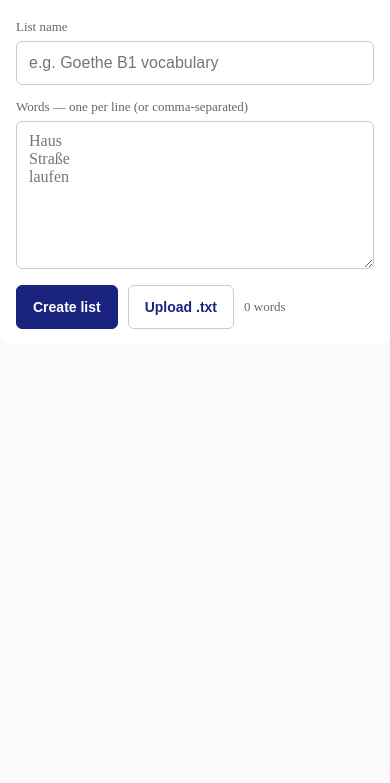
Scenario: WordListsPage › renders all five counts and shows unresolved + ambiguous surfaces
Type "Haus" into the text box with test id "word-list-input".
click(195, 195); type("Haus")  # box [16,121,374,269]
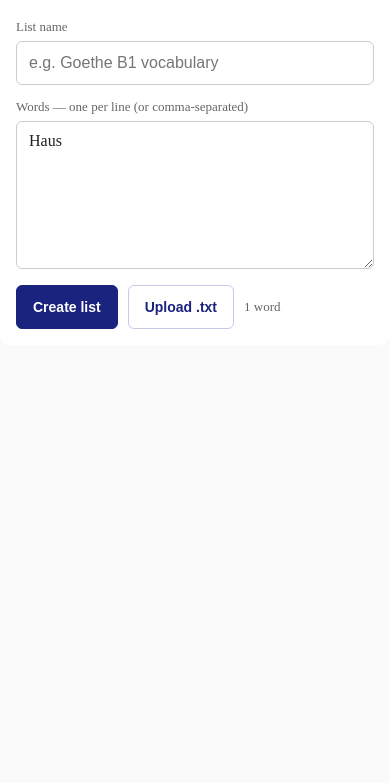
Click the button with test id "word-list-create".
click(67, 307)  # box [16,285,118,329]
(page scrolled)
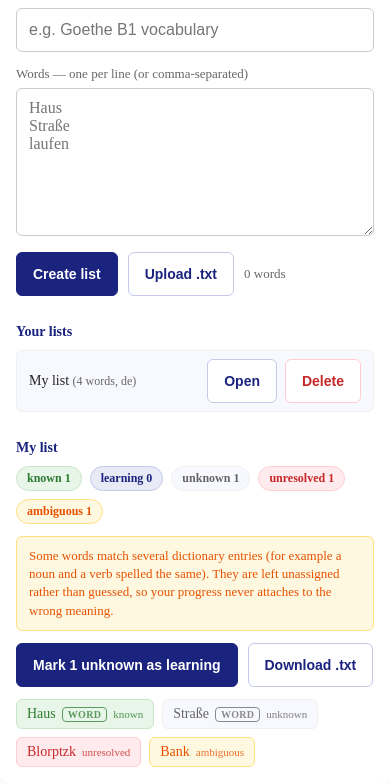
Result: the element with test id "word-list-detail" is shown at [16,440,374,767]
Result: the text with test id "word-list-count-known" shows "1" at [65,471,71,485]
Result: the text with test id "word-list-count-learning" shows "0" at [146,471,152,485]
